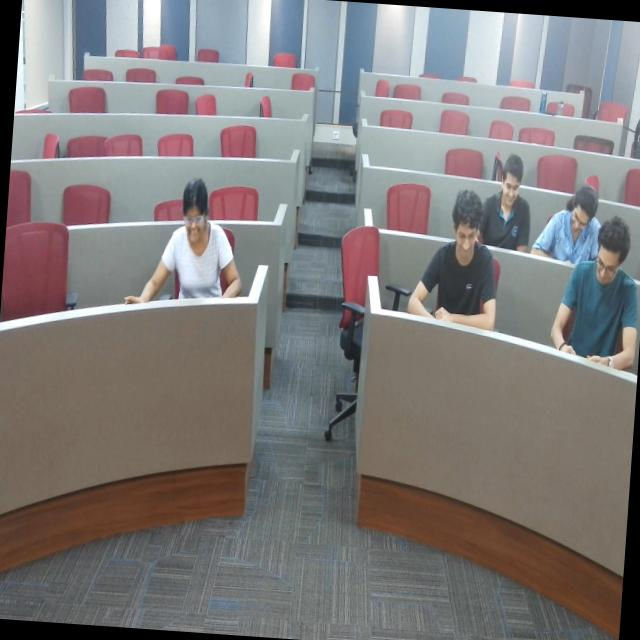non-cheating: (136, 164, 253, 324), (396, 185, 510, 347), (550, 218, 640, 393)
